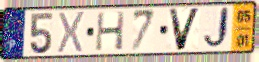5: (29, 11, 55, 56)
7: (132, 8, 157, 54)
H: (94, 10, 127, 52)
J: (201, 5, 232, 52)
V: (167, 7, 203, 52)
X: (56, 10, 87, 55)
